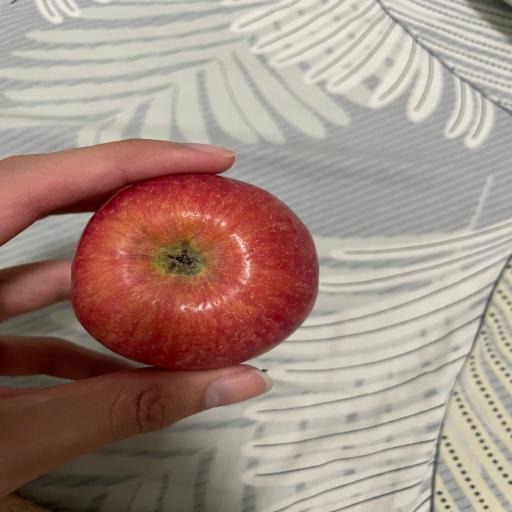apple: (72, 174, 318, 370), (155, 239, 206, 277)
